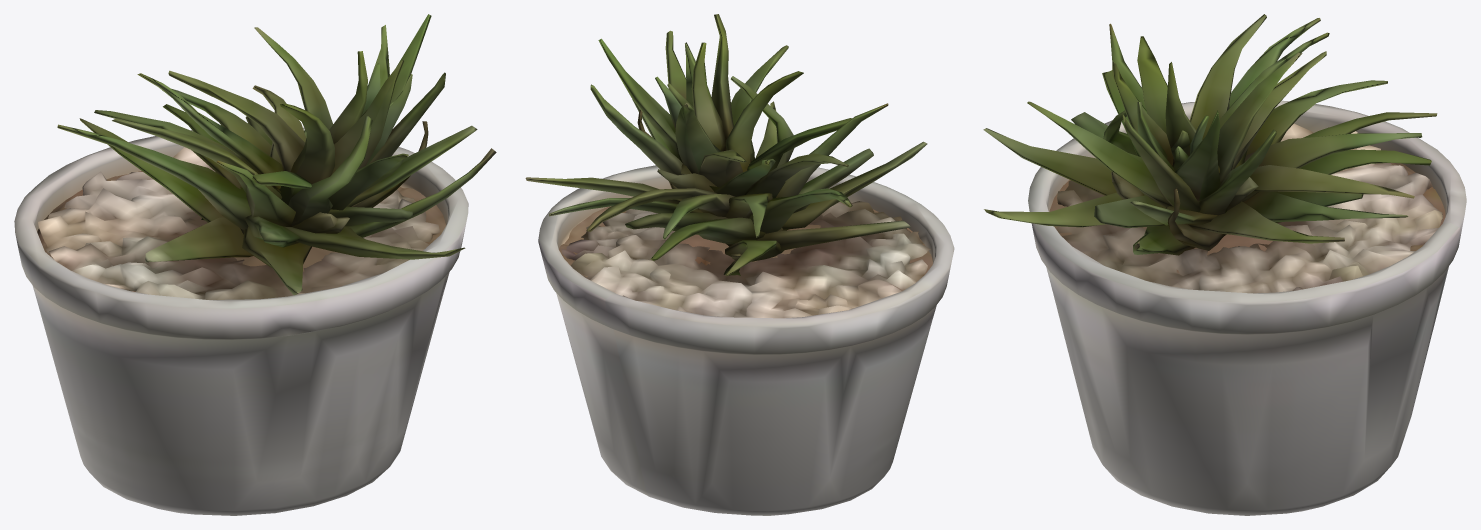
Rendered from ph-potted-plant-04.glb.
The picture shows the model from 3 angles, left to right: view 1: azimuth 30°, elevation 25°; view 2: azimuth 150°, elevation 25°; view 3: azimuth 270°, elevation 25°; orthographic projection. The views are drawn at different scales.
Visible parts, largest first — view 1: potted_plant_04_ground; view 2: potted_plant_04_ground; view 3: potted_plant_04_ground.
Part boxes in pixels (<box>): potted_plant_04_ground: <box>14,14,496,515</box>; potted_plant_04_ground: <box>525,14,954,515</box>; potted_plant_04_ground: <box>983,14,1466,515</box>.
Bounding box in the file's own units: 1 × 0.999 × 0.9962.
Materials: 1 (1 with a texture image).
